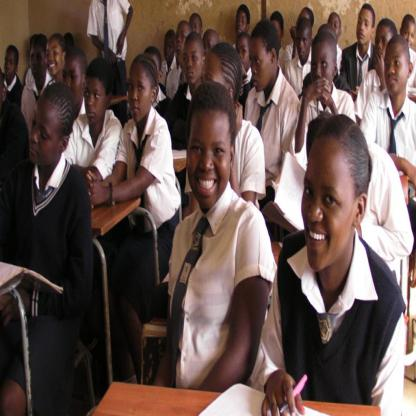face: (302, 150, 355, 272), (187, 109, 232, 206), (30, 93, 61, 165), (129, 69, 151, 121), (251, 41, 273, 92), (205, 58, 225, 110), (85, 78, 107, 123), (385, 49, 406, 96), (63, 60, 84, 107), (312, 46, 332, 93), (185, 41, 202, 84), (375, 27, 392, 65), (48, 42, 63, 74), (357, 10, 371, 44), (32, 46, 46, 79), (297, 29, 311, 61), (237, 37, 249, 70), (401, 27, 415, 52), (5, 53, 16, 81), (296, 10, 310, 32), (190, 16, 202, 41), (236, 12, 248, 36), (329, 15, 340, 41), (271, 21, 282, 47), (177, 26, 187, 53), (165, 38, 175, 62), (204, 35, 216, 55)
